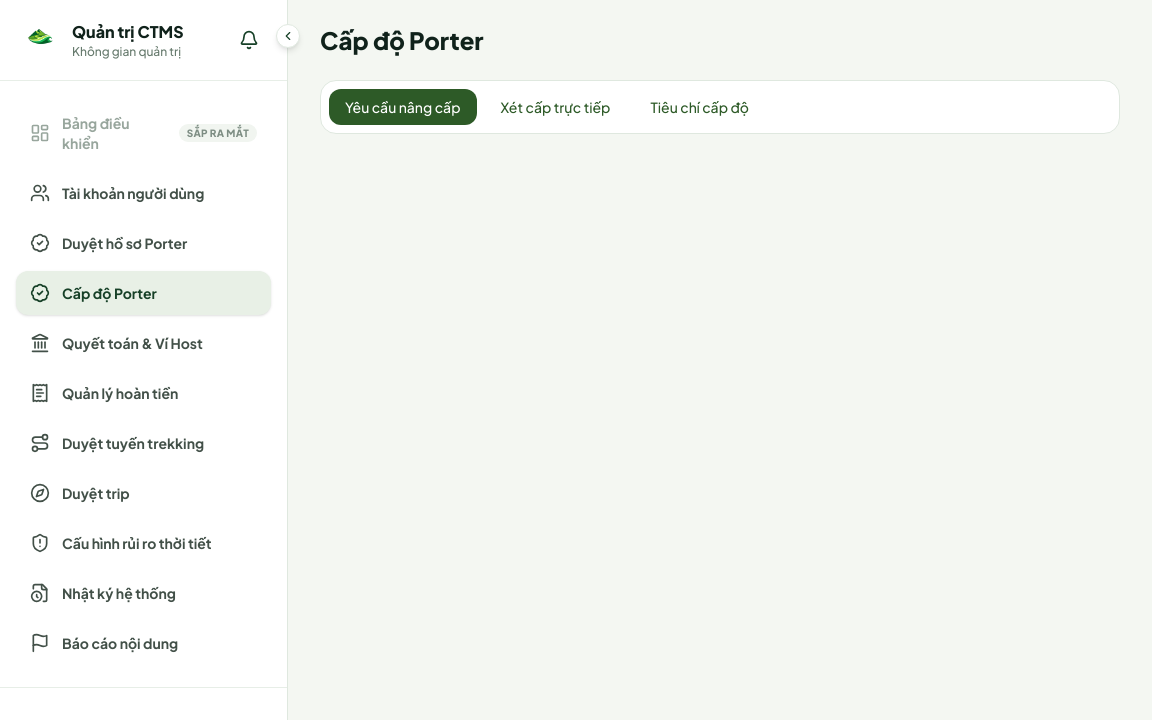
Porter level UI › opens the selected Route qualification and shows its comparison and history
Click the button "Xét cấp trực tiếp".
click(556, 107)  # box [484,89,626,125]
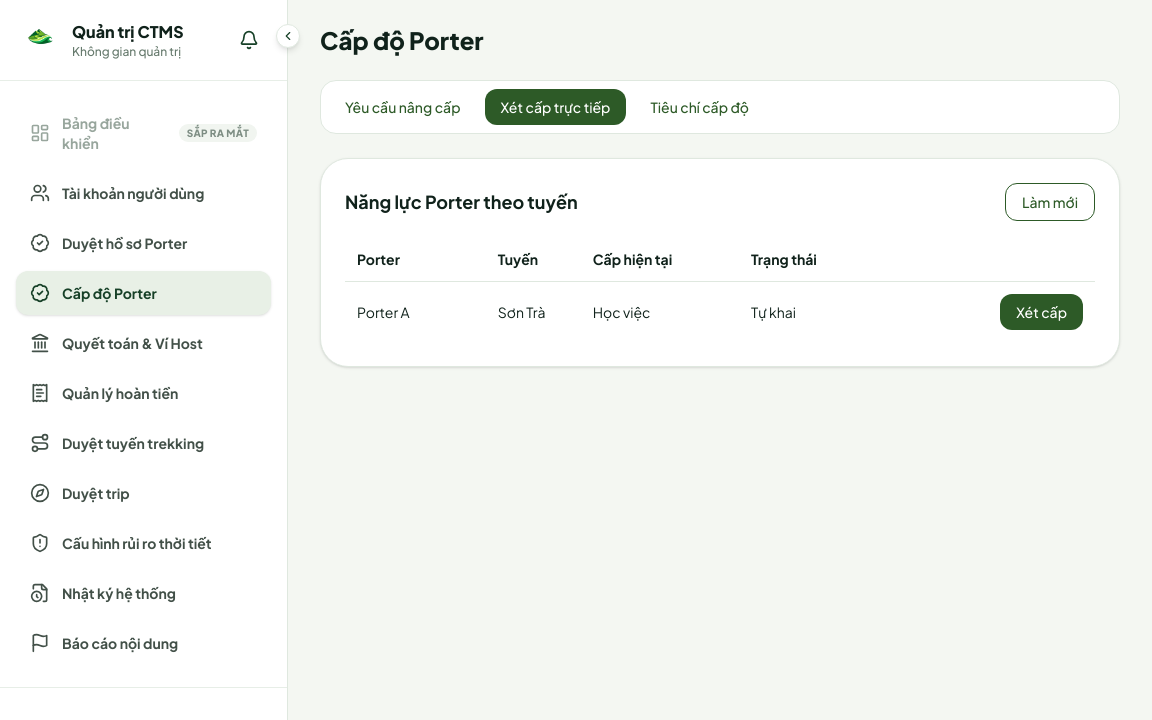
Click the button "Xét cấp".
click(1042, 312)  # box [1000,294,1083,330]
(page scrolled)
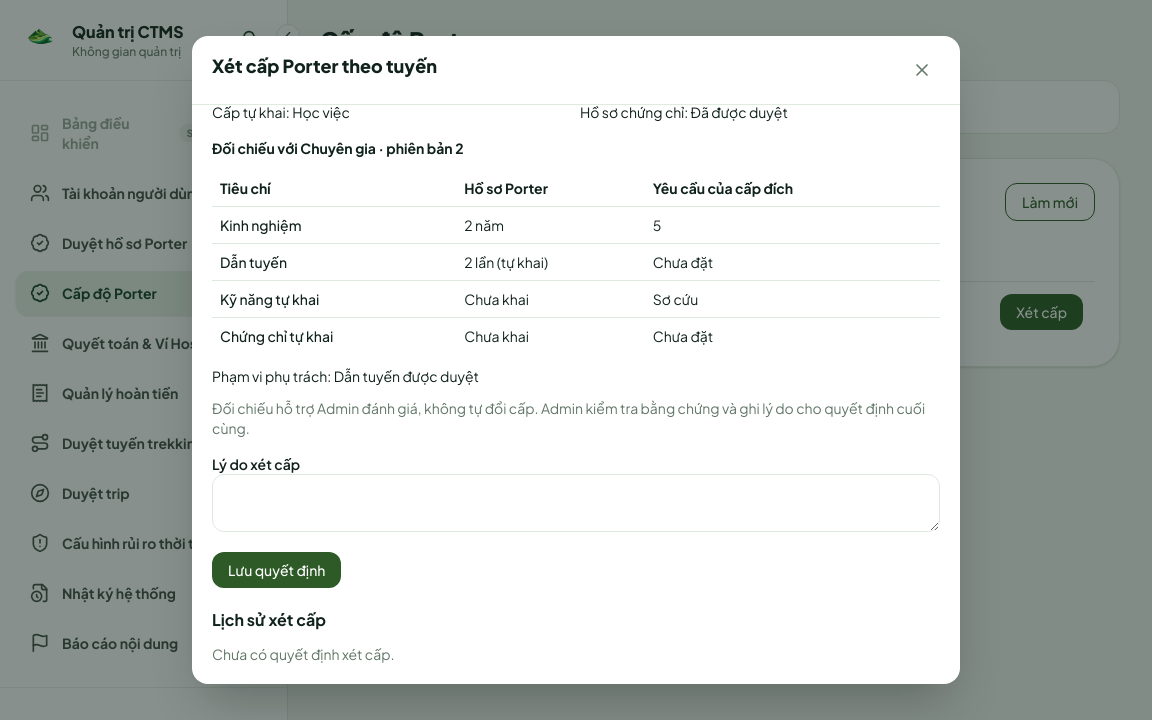
Check: the dialog is shown
Check: the text "Đối chiếu với Chuyên gia · phiên bản 2" is shown, box [212,139,464,157]
Check: the text "Chưa có quyết định xét cấp." is shown, box [212,645,395,663]
